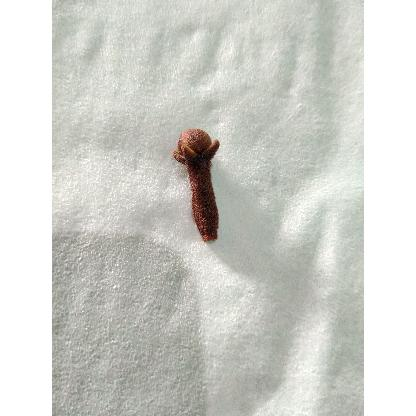baik: (173, 129, 220, 243)
